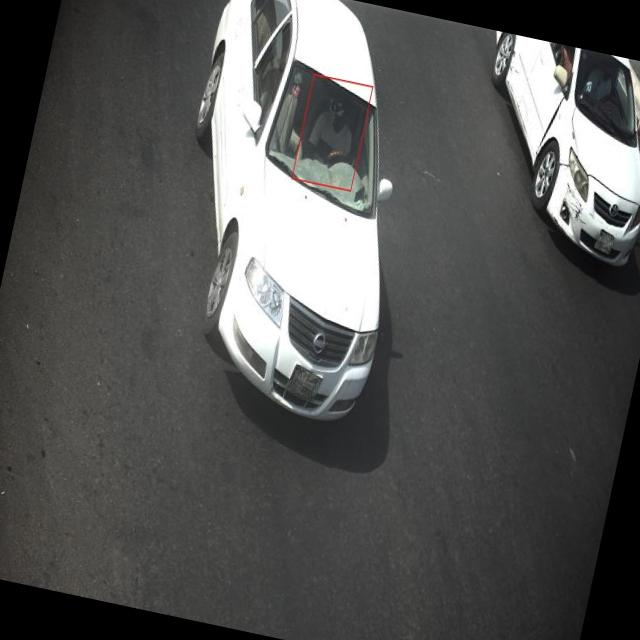person_without_seatbelt: (300, 78, 371, 184)
